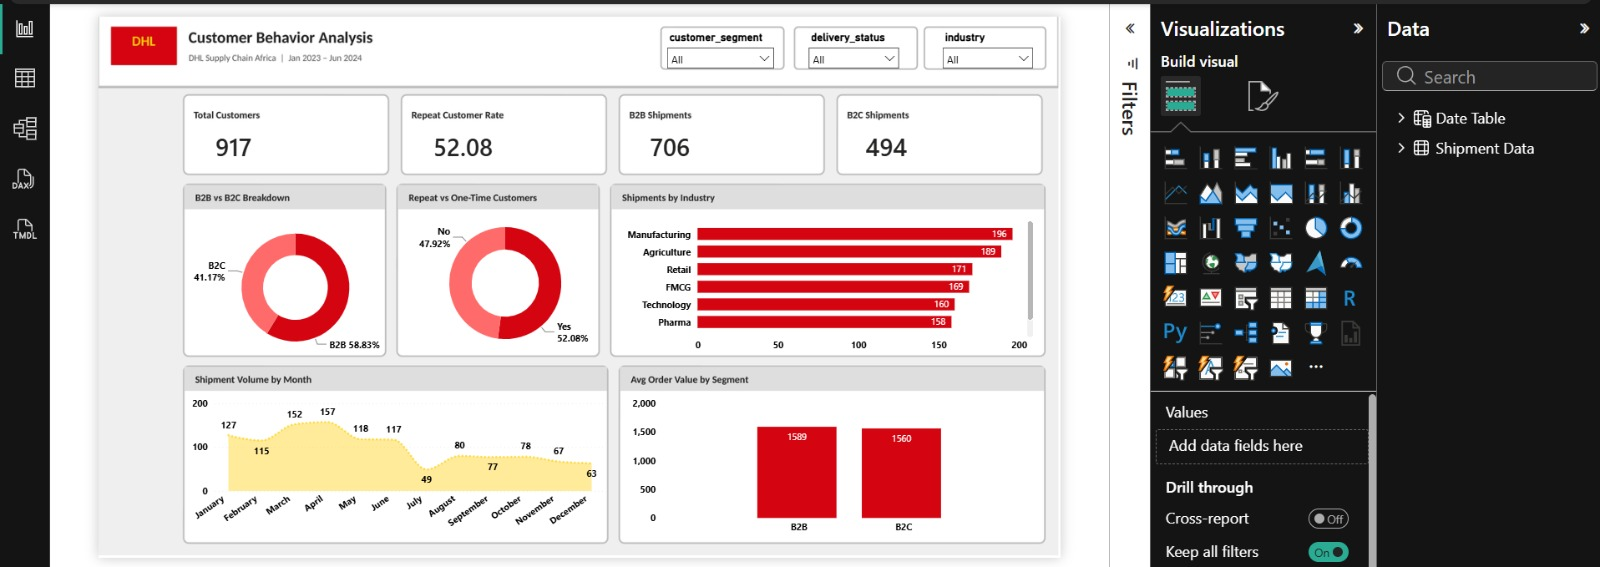

This screenshot's page, from the dashboard's own definition file:
{"tool":"powerbi","page":{"name":"Customer Behaviour","canvas":[1280,720],"ordinal":1},"visuals":[{"type":"cardVisual","fields":{"Data":["Date Table.B2B Shipments"]},"box":[705,140,241.7,63.3],"z":0},{"type":"cardVisual","fields":{"Data":["Date Table.B2C Shipments"]},"box":[991.7,140,241.7,63.3],"z":1},{"type":"cardVisual","fields":{"Data":["Date Table.Repeat Customer Rate"]},"box":[416.7,140,241.7,63.3],"z":2},{"type":"cardVisual","fields":{"Data":["Date Table.Total Customers"]},"box":[126.7,140,241.7,63.3],"z":3},{"type":"donutChart","fields":{"Y":["Date Table.Total Shipments"],"Category":["Shipment Data.customer_segment"]},"box":[110,258.3,303.3,203.3],"z":4},{"type":"donutChart","fields":{"Y":["Date Table.Total Shipments"],"Category":["Shipment Data.is_repeat_customer"]},"box":[403.3,171.7,275,365],"z":5},{"type":"clusteredBarChart","fields":{"Y":["Date Table.Total Shipments"],"Category":["Shipment Data.industry"]},"box":[696.7,258.3,551.7,196.7],"z":6},{"type":"columnChart","fields":{"Category":["Shipment Data.customer_segment"],"Y":["Date Table.Avg Revenue per Shipment"]},"box":[705,500,551.7,196.7],"z":7},{"type":"lineChart","fields":{"Category":["Date Table.Date.Variation.Date Hierarchy.Month"],"Y":["Date Table.Total Shipments"]},"box":[110,500,568.3,196.7],"z":8},{"type":"slicer","fields":{"Values":["Shipment Data.customer_segment"]},"box":[746.7,13.3,161.7,55],"z":12},{"type":"slicer","fields":{"Values":["Shipment Data.delivery_status"]},"box":[935,13.3,140,55],"z":13},{"type":"slicer","fields":{"Values":["Shipment Data.industry"]},"box":[1113.3,13.3,140,55],"z":14}]}

Visuals, with their boxes on the page's 1280x720 design canvas (x1, y1, x2, y2). These are canvas units, not pixel positions in the 1600x567 screenshot, which may show the page scaled, cropped or inside an application window:
cardVisual - Date Table.B2B Shipments: Rect(705, 140, 947, 203)
cardVisual - Date Table.B2C Shipments: Rect(992, 140, 1233, 203)
cardVisual - Date Table.Repeat Customer Rate: Rect(417, 140, 658, 203)
cardVisual - Date Table.Total Customers: Rect(127, 140, 368, 203)
donutChart - Date Table.Total Shipments x Shipment Data.customer_segment: Rect(110, 258, 413, 462)
donutChart - Date Table.Total Shipments x Shipment Data.is_repeat_customer: Rect(403, 172, 678, 537)
clusteredBarChart - Date Table.Total Shipments x Shipment Data.industry: Rect(697, 258, 1248, 455)
columnChart - Shipment Data.customer_segment x Date Table.Avg Revenue per Shipment: Rect(705, 500, 1257, 697)
lineChart - Date Table.Date.Variation.Date Hierarchy.Month x Date Table.Total Shipments: Rect(110, 500, 678, 697)
slicer - Shipment Data.customer_segment: Rect(747, 13, 908, 68)
slicer - Shipment Data.delivery_status: Rect(935, 13, 1075, 68)
slicer - Shipment Data.industry: Rect(1113, 13, 1253, 68)
